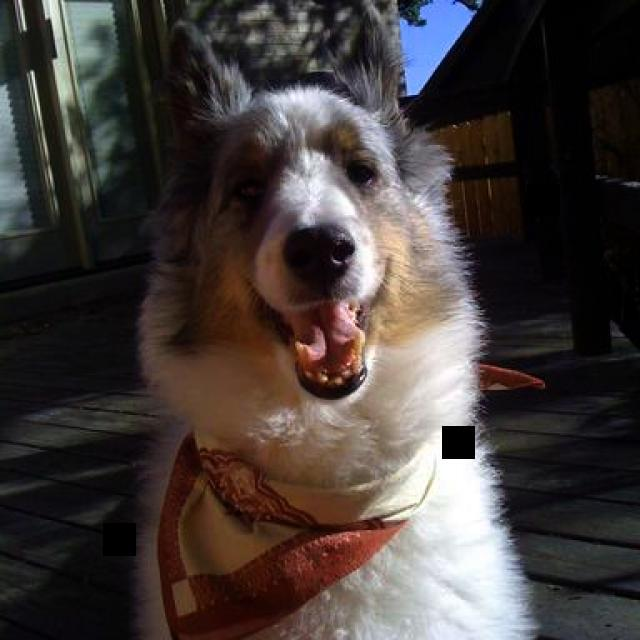adult_dog: (131, 6, 533, 637)
